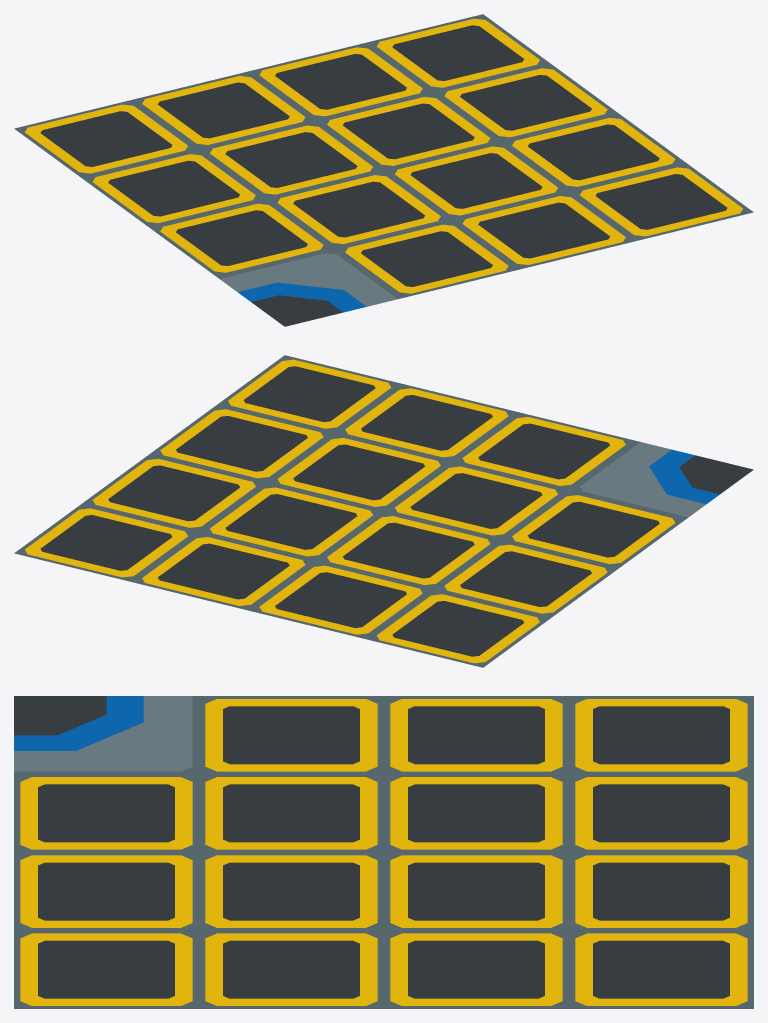
Rendered from Floor_type_C_010.fbx.
The picture shows the model from 3 angles, top to bottom: view 1: azimuth 30°, elevation 25°; view 2: azimuth 150°, elevation 25°; view 3: azimuth 270°, elevation 25°; orthographic projection. The views are drawn at different scales.
Visible parts, largest first — view 1: Floor_type_C_010; view 2: Floor_type_C_010; view 3: Floor_type_C_010.
Part boxes in pixels (box(x1,y1,x2,y2)): Floor_type_C_010: box(14, 14, 753, 326); Floor_type_C_010: box(14, 355, 753, 667); Floor_type_C_010: box(14, 696, 753, 1008).
Bounding box in the file's own units: 400 × 400 × 1.69e-21.
